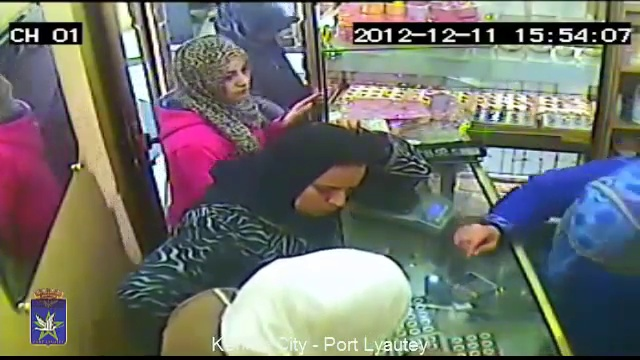face: (291, 156, 365, 215), (224, 61, 251, 100)
